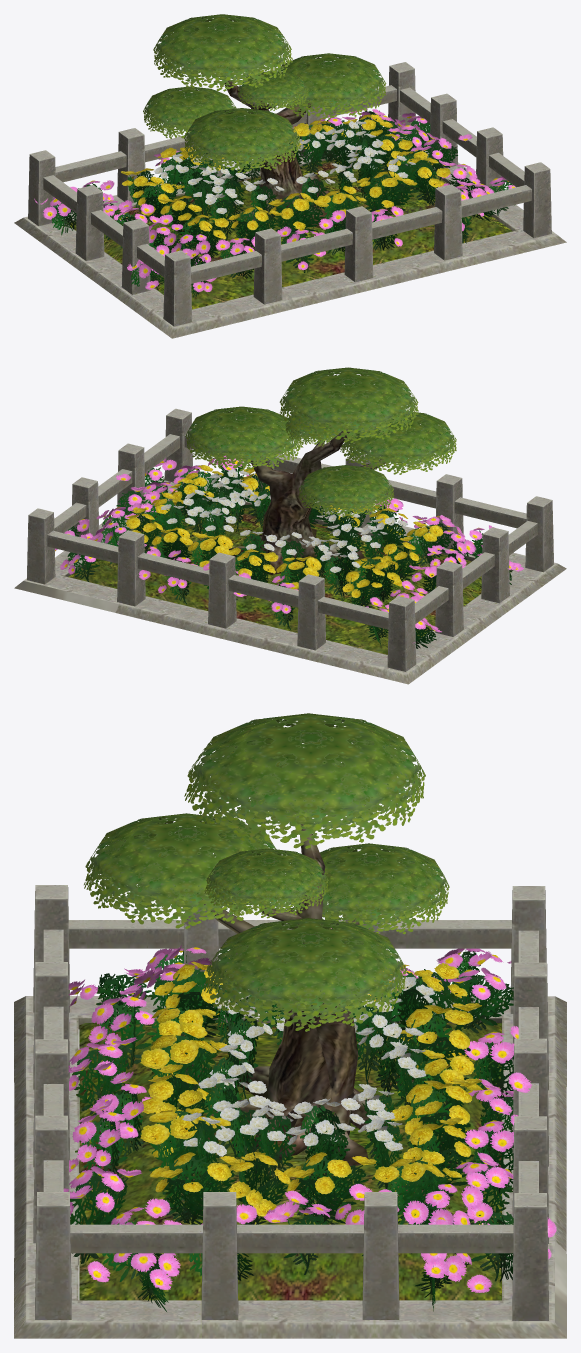
File: jz_huatan02_54_03_4082out.fbx
3 renders of one model, top to bottom at view 1: azimuth 30°, elevation 25°; view 2: azimuth 150°, elevation 25°; view 3: azimuth 270°, elevation 25°, orthographic. The views are drawn at different scales.
Parts seen in each view (by area): view 1: jz_huatan02; view 2: jz_huatan02; view 3: jz_huatan02.
Part boxes in pixels (left/top/right/bottom): jz_huatan02: left=14, top=14, right=566, bottom=338; jz_huatan02: left=14, top=367, right=566, bottom=684; jz_huatan02: left=14, top=713, right=566, bottom=1338.
Size of the model in its own units: 6.76 by 3.59 by 4.58.
